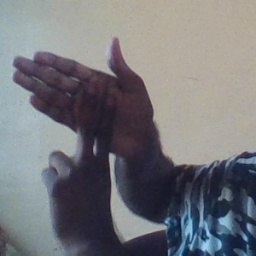N: (13, 34, 138, 193)
